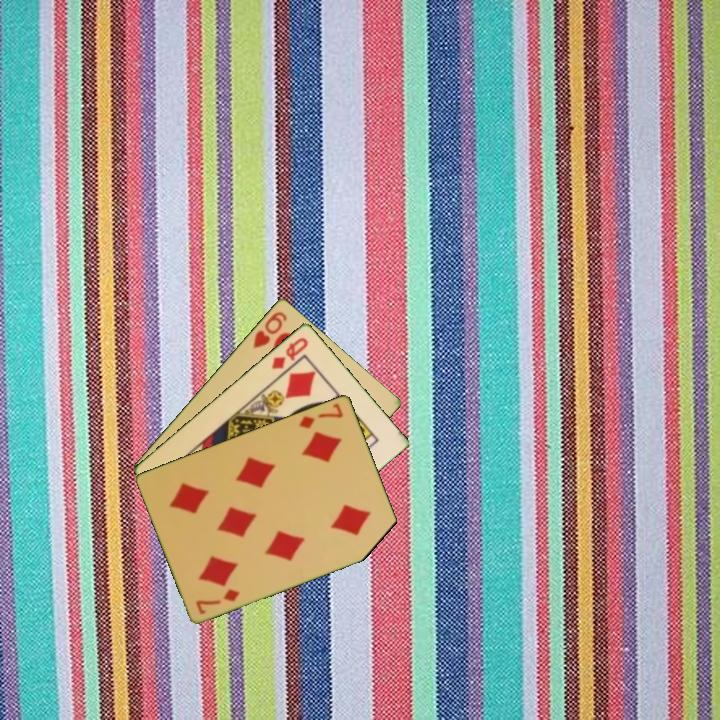6h: (249, 307, 290, 351)
7d: (295, 399, 346, 431), (192, 585, 243, 617)
Qd: (268, 333, 311, 372)
